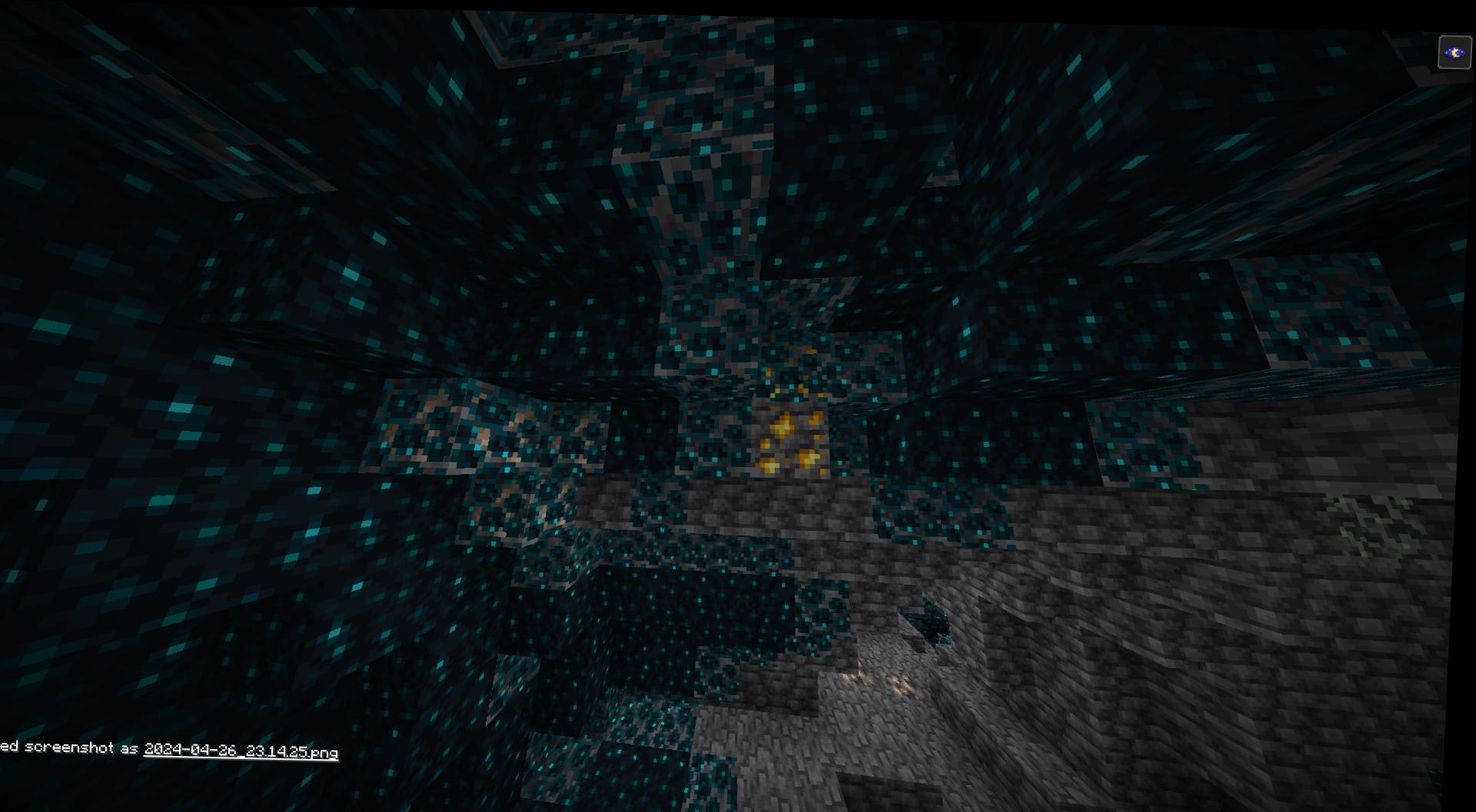gold ore: (757, 401, 832, 471)
iron ore: (883, 663, 927, 694), (848, 652, 882, 680)
